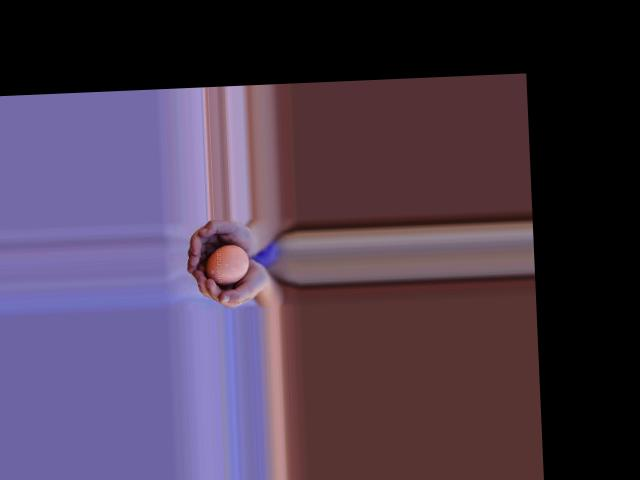egg: (204, 243, 250, 285)
